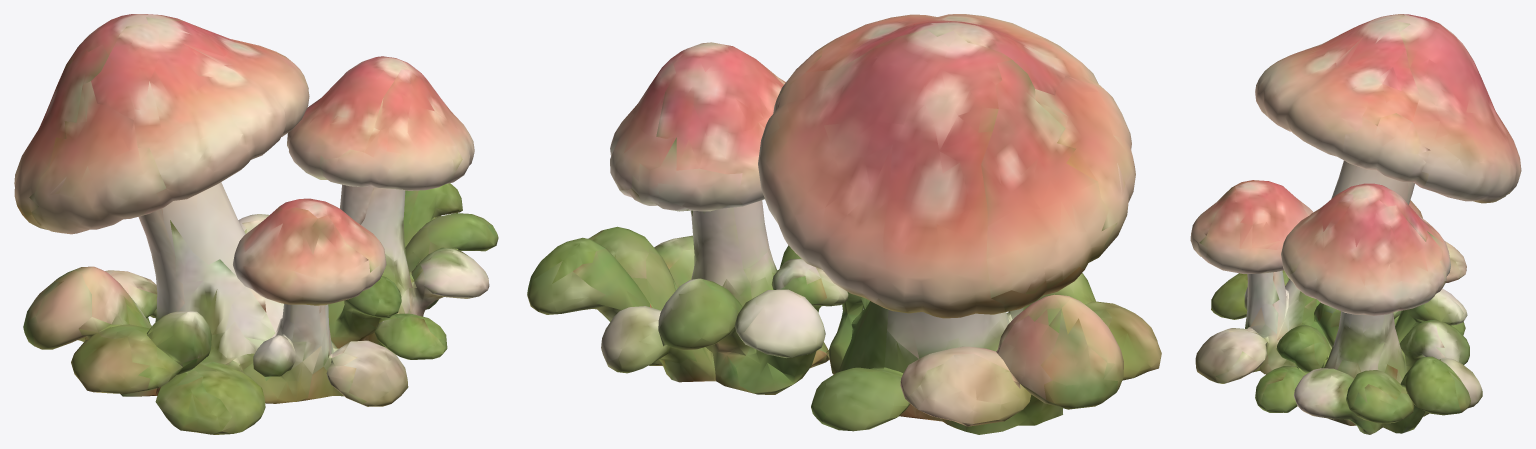
Rendered from setas.glb.
3 renders of one model, left to right at view 1: azimuth 30°, elevation 25°; view 2: azimuth 150°, elevation 25°; view 3: azimuth 270°, elevation 25°, orthographic. The views are drawn at different scales.
Visible parts, largest first — view 1: setas_malla; view 2: setas_malla; view 3: setas_malla.
Part boxes in pixels (x1=…): setas_malla: x1=14, y1=14, x2=498, y2=434; setas_malla: x1=527, y1=14, x2=1161, y2=434; setas_malla: x1=1190, y1=14, x2=1521, y2=434.
Bounding box in the file's own units: 0.2391 × 0.1655 × 0.1669.
Materials: 1 (1 with a texture image).
